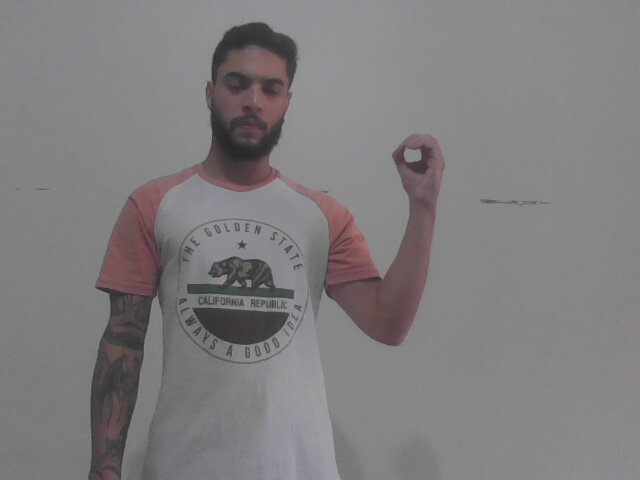o: (385, 128, 453, 209)
